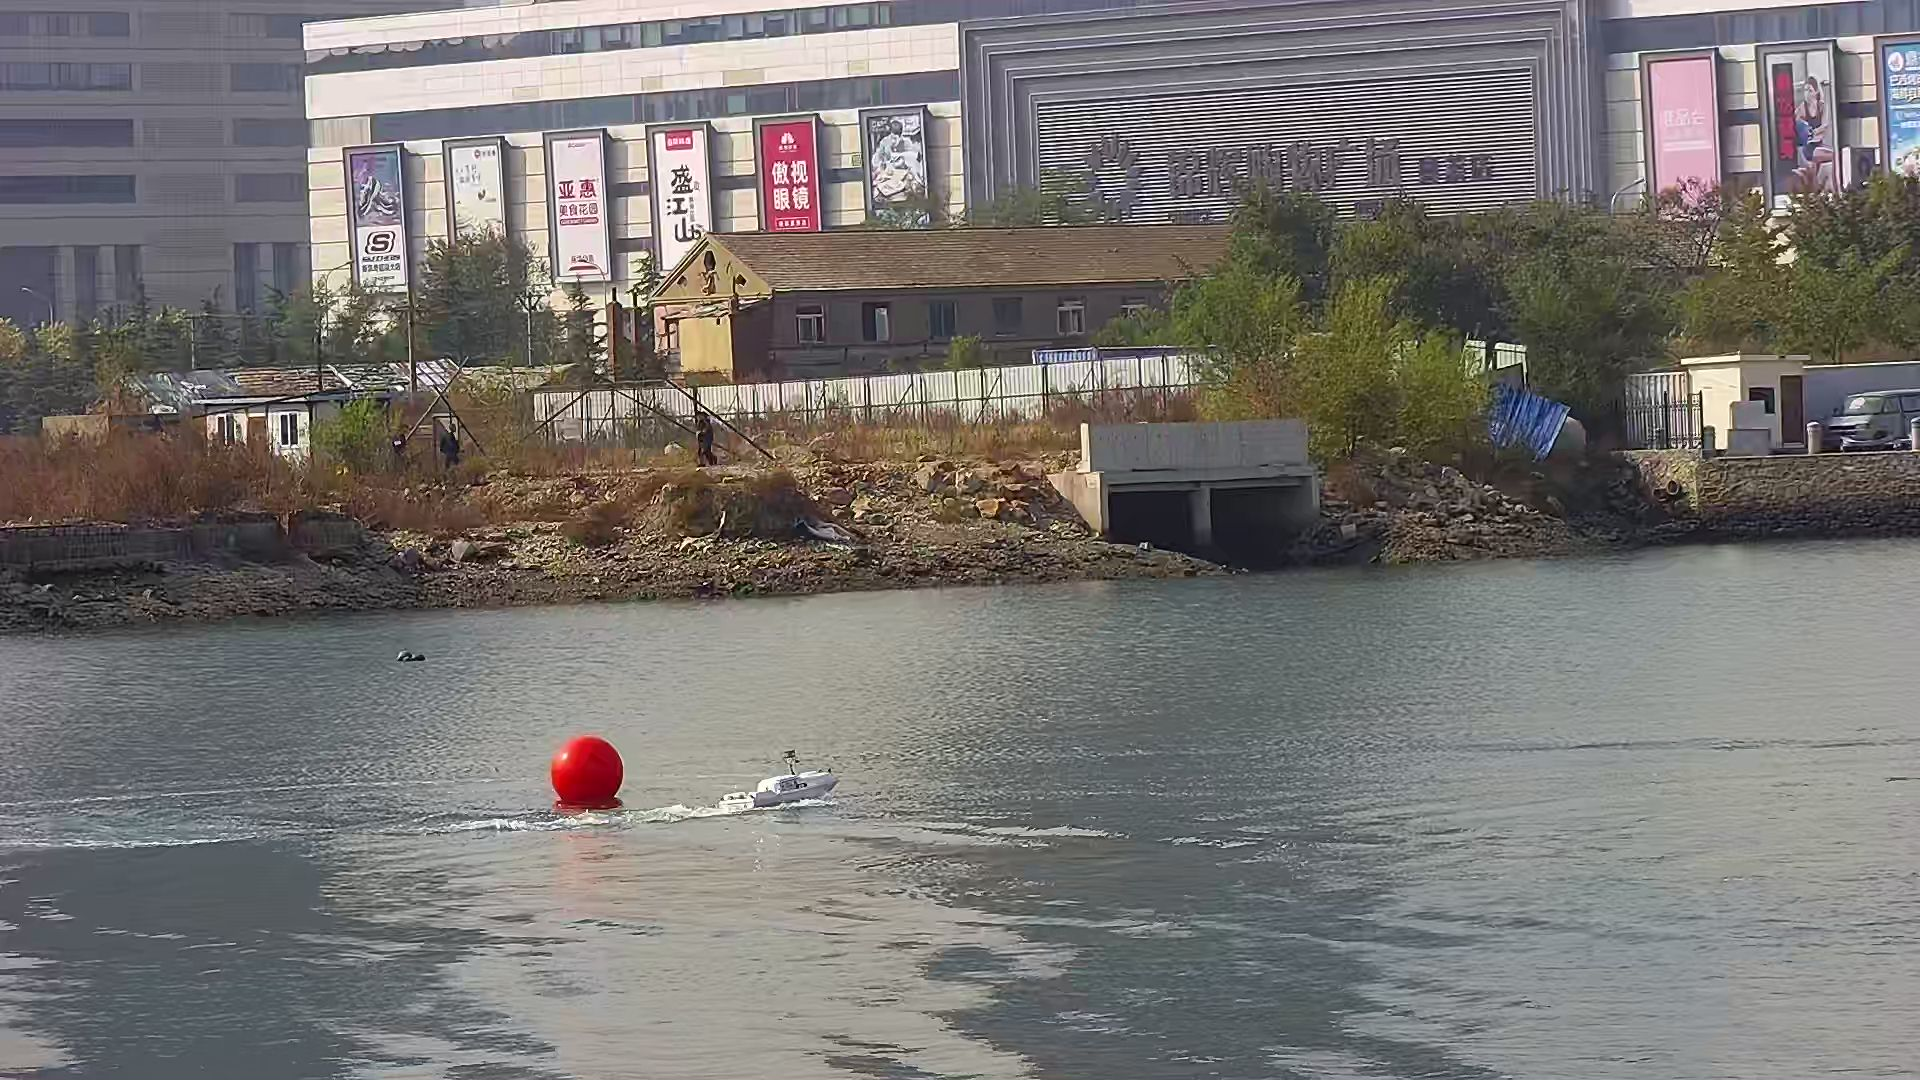ball: (547, 731, 625, 806)
boat: (719, 750, 843, 818)
rubbish: (396, 646, 431, 665)
